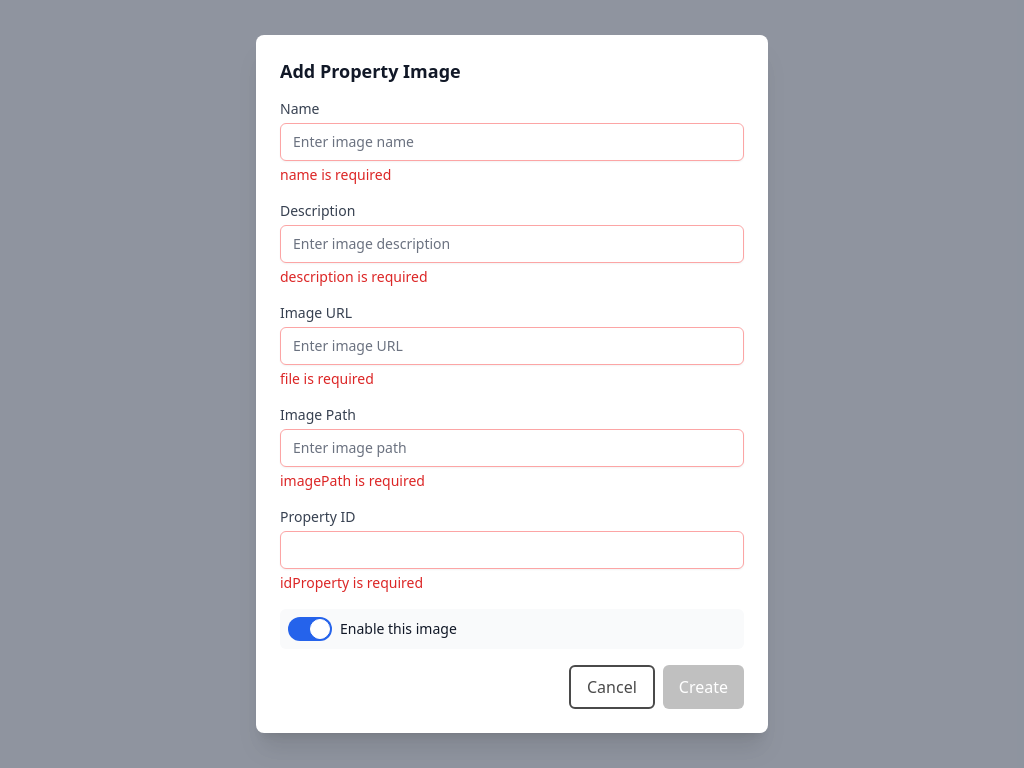
Test case: ActionModal › validates property ID format
This screenshot has width=1024, height=768.
In the field labelled "Property ID": (512, 550) [280,531,744,569], type "invalid-id"
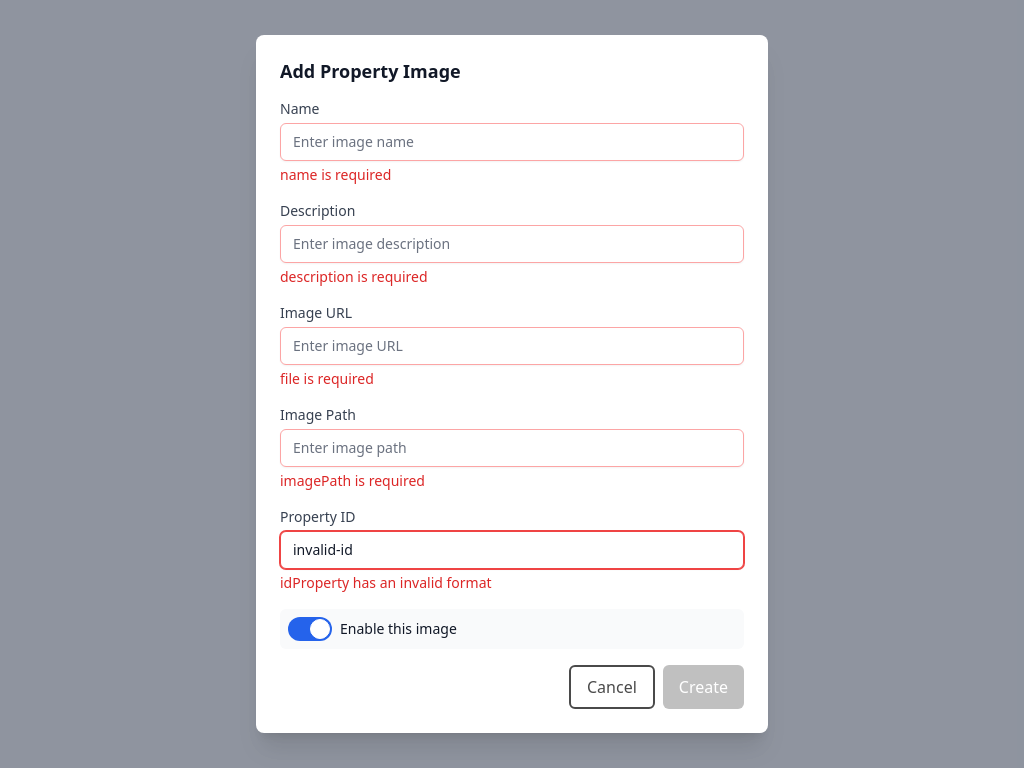
Expected: the text "idProperty has an invalid format" is shown, [280,573,492,592]
